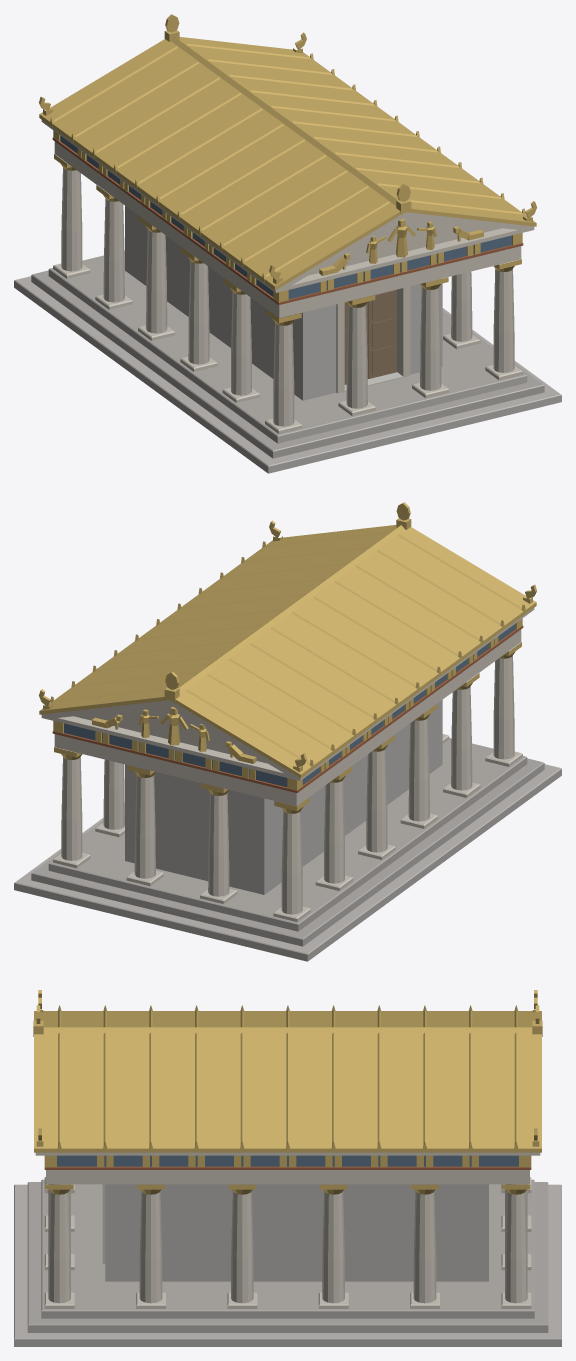
Rendered from hall-of-the-gods-165e08.glb.
3 views of the same model, one above another, from view 1: azimuth 30°, elevation 25°; view 2: azimuth 150°, elevation 25°; view 3: azimuth 270°, elevation 25° (orthographic). The views are drawn at different scales.
Visible parts, largest first — view 1: hall-marble, hall-gilt, door-right-leaf; view 2: hall-marble, hall-gilt; view 3: hall-marble, hall-gilt.
Boxes of the visible parts, x1,y1,x2,y2 form: hall-marble: (14, 120, 561, 473); hall-gilt: (39, 14, 536, 325); door-right-leaf: (368, 289, 396, 378); hall-marble: (14, 608, 561, 961); hall-gilt: (39, 502, 536, 813); hall-marble: (14, 1152, 561, 1346); hall-gilt: (33, 990, 542, 1194).
Bounding box in the file's own units: 16 × 12.77 × 24.
